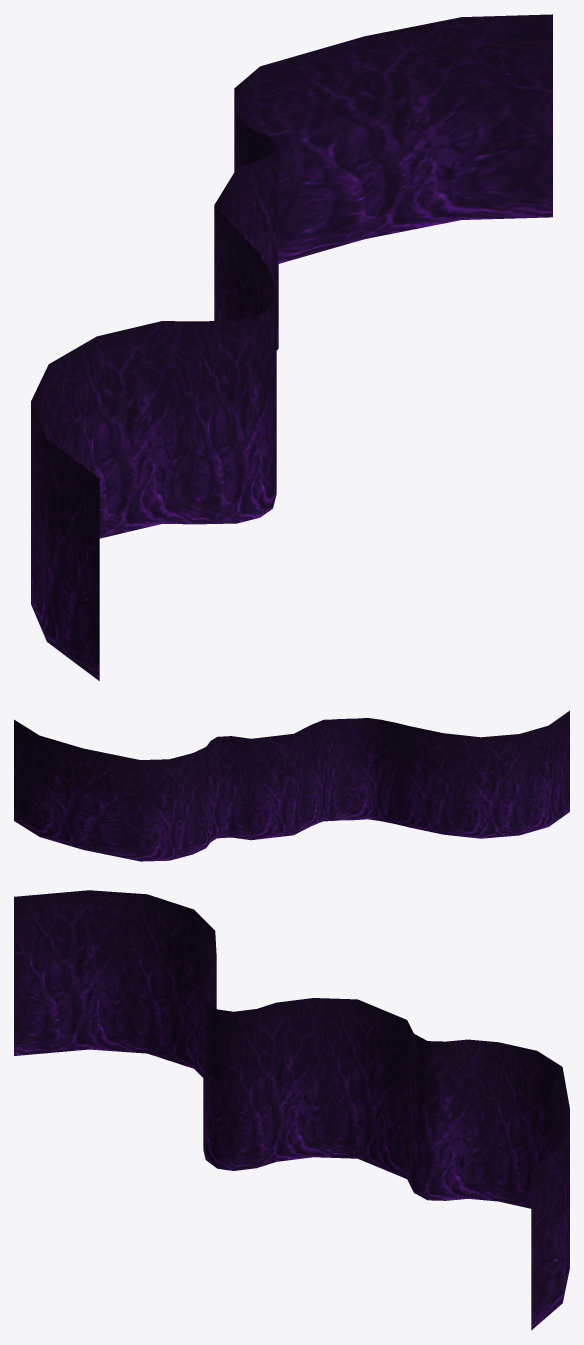
File: EKH_ENTRANCE_PS_EN_TREE_8480.fbx
3 views of the same model, one above another, from view 1: azimuth 30°, elevation 25°; view 2: azimuth 150°, elevation 25°; view 3: azimuth 270°, elevation 25° (orthographic). The views are drawn at different scales.
Parts seen in each view (by area): view 1: EKH_ENTRANCE_PS_EN_TREE_8480; view 2: EKH_ENTRANCE_PS_EN_TREE_8480; view 3: EKH_ENTRANCE_PS_EN_TREE_8480.
Part boxes in pixels (box(x1,y1,x2,y2)): EKH_ENTRANCE_PS_EN_TREE_8480: box(31, 14, 552, 680); EKH_ENTRANCE_PS_EN_TREE_8480: box(14, 710, 569, 861); EKH_ENTRANCE_PS_EN_TREE_8480: box(14, 890, 569, 1330).
Bounding box in the file's own units: 518313 × 147780 × 403616.
Materials: 1 (1 with a texture image).
